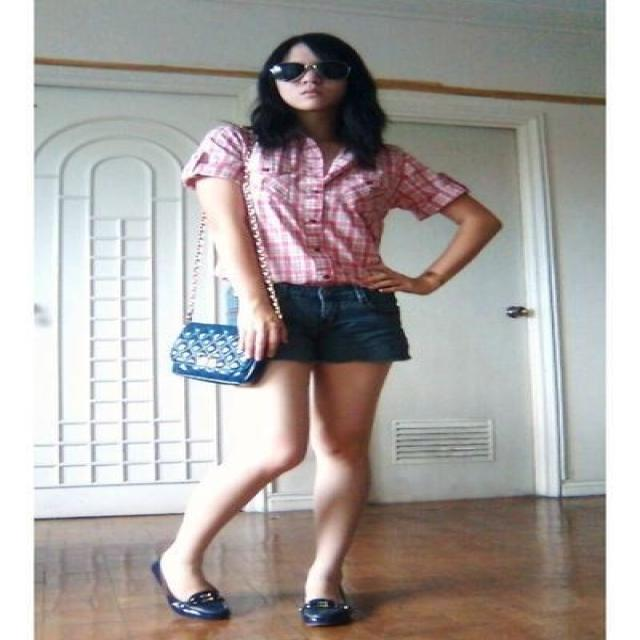bag: (154, 322, 264, 396)
shirt: (173, 124, 467, 285)
shoe: (190, 580, 352, 626)
shorts: (252, 281, 410, 370)
